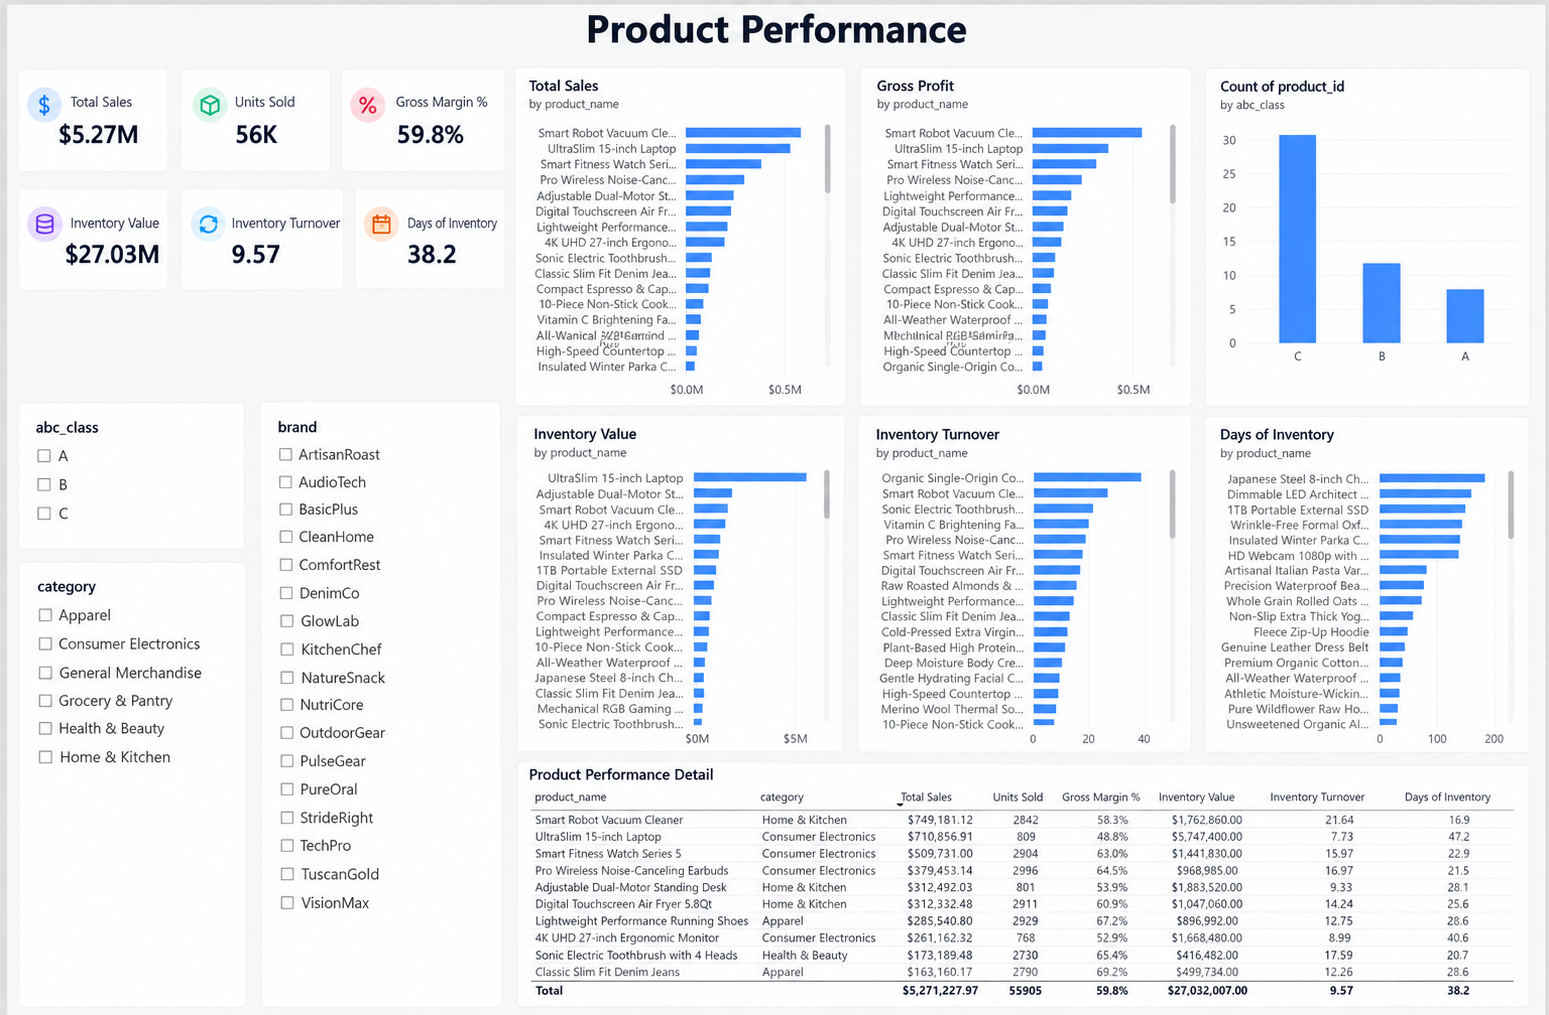

The page's visual inventory and layout, read from the dashboard file:
{"tool":"powerbi","page":{"name":"Product Performance","canvas":[1920,2000],"ordinal":3},"visuals":[{"type":"cardVisual","fields":{"Data":["fact_sales.Total Sales"]},"box":[47.5,117.5,173.3,137.8],"z":0},{"type":"cardVisual","fields":{"Data":["fact_sales.Units Sold"]},"box":[245,115,173.3,137.8],"z":1000},{"type":"cardVisual","fields":{"Data":["fact_sales.Gross Margin %"]},"box":[445,115,173.3,137.8],"z":2000},{"type":"cardVisual","fields":{"Data":["fact_inventory.Inventory Value"]},"box":[47.5,290,173.3,137.8],"z":3000},{"type":"cardVisual","fields":{"Data":["fact_inventory.Inventory Turnover"]},"box":[245,290,173.3,137.8],"z":4000},{"type":"cardVisual","fields":{"Data":["fact_inventory.Days of Inventory"]},"box":[445,290,173.3,137.8],"z":5000},{"type":"clusteredBarChart","fields":{"Category":["dim_product.product_name"],"Y":["fact_sales.Total Sales"]},"box":[670,115,390,487.5],"z":6000},{"type":"clusteredBarChart","fields":{"Category":["dim_product.product_name"],"Y":["fact_sales.Gross Profit"]},"box":[1085,115,390,487.5],"z":7000},{"type":"clusteredBarChart","fields":{"Category":["dim_product.product_name"],"Y":["fact_inventory.Inventory Value"]},"box":[670.4,620.4,388.9,486.7],"z":8000},{"type":"clusteredBarChart","fields":{"Category":["dim_product.product_name"],"Y":["fact_inventory.Inventory Turnover"]},"box":[1086,620.4,388.9,486.7],"z":9000},{"type":"clusteredBarChart","fields":{"Category":["dim_product.product_name"],"Y":["fact_inventory.Days of Inventory"]},"box":[1501.5,620.4,388.9,486.7],"z":10000},{"type":"tableEx","title":"Product Performance Detail","fields":{"Values":["dim_product.product_name","dim_product.category","fact_sales.Total Sales","fact_sales.Units Sold","fact_sales.Gross Margin %","fact_inventory.Inventory Value","fact_inventory.Inventory Turnover","fact_inventory.Days of Inventory"]},"box":[760,1130,1122.5,855],"z":11000},{"type":"clusteredColumnChart","fields":{"Category":["product_operational_metrics.abc_class"],"Y":["CountNonNull(product_operational_metrics.product_id)"]},"box":[1502.5,115,390,487.5],"z":12000},{"type":"slicer","fields":{"Values":["dim_product.category"]},"box":[220,1502.5,224.4,302.2],"z":13000},{"type":"slicer","fields":{"Values":["dim_product.brand"]},"box":[505,1130,224.4,675.6],"z":14000},{"type":"slicer","fields":{"Values":["product_operational_metrics.abc_class"]},"box":[245,1130,200,155.6],"z":15000},{"type":"textbox","box":[0,0,1920,97.5],"z":15001}]}

Visuals, with their boxes on the page's 1920x2000 design canvas (x1, y1, x2, y2). These are canvas units, not pixel positions in the 1549x1015 screenshot, which may show the page scaled, cropped or inside an application window:
cardVisual - fact_sales.Total Sales: region(48, 118, 221, 255)
cardVisual - fact_sales.Units Sold: region(245, 115, 418, 253)
cardVisual - fact_sales.Gross Margin %: region(445, 115, 618, 253)
cardVisual - fact_inventory.Inventory Value: region(48, 290, 221, 428)
cardVisual - fact_inventory.Inventory Turnover: region(245, 290, 418, 428)
cardVisual - fact_inventory.Days of Inventory: region(445, 290, 618, 428)
clusteredBarChart - dim_product.product_name x fact_sales.Total Sales: region(670, 115, 1060, 602)
clusteredBarChart - dim_product.product_name x fact_sales.Gross Profit: region(1085, 115, 1475, 602)
clusteredBarChart - dim_product.product_name x fact_inventory.Inventory Value: region(670, 620, 1059, 1107)
clusteredBarChart - dim_product.product_name x fact_inventory.Inventory Turnover: region(1086, 620, 1475, 1107)
clusteredBarChart - dim_product.product_name x fact_inventory.Days of Inventory: region(1502, 620, 1890, 1107)
"Product Performance Detail" tableEx: region(760, 1130, 1882, 1985)
clusteredColumnChart - product_operational_metrics.abc_class x CountNonNull(product_operational_metrics.product_id): region(1502, 115, 1892, 602)
slicer - dim_product.category: region(220, 1502, 444, 1805)
slicer - dim_product.brand: region(505, 1130, 729, 1806)
slicer - product_operational_metrics.abc_class: region(245, 1130, 445, 1286)
textbox: region(0, 0, 1920, 98)
